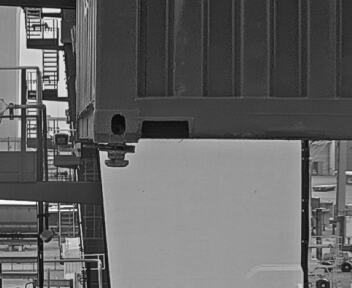twist_lock_1: (90, 134, 141, 176)
